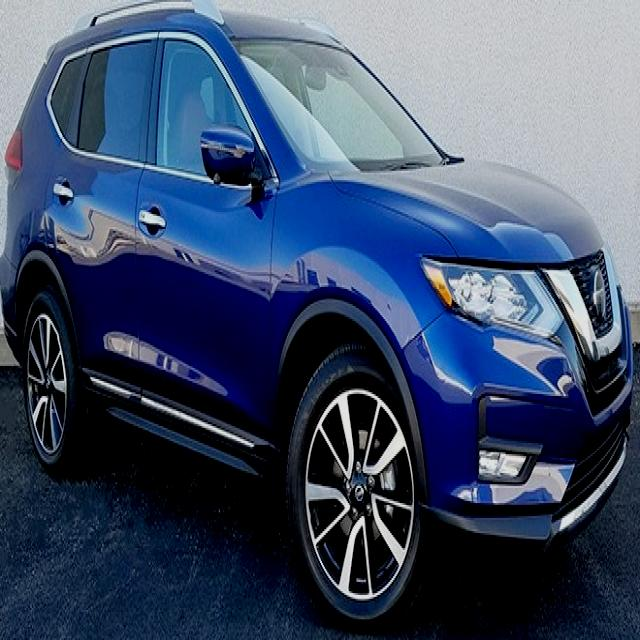blue: (0, 19, 633, 640)
